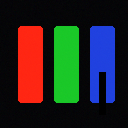4 line_v: (99, 72, 105, 114)
